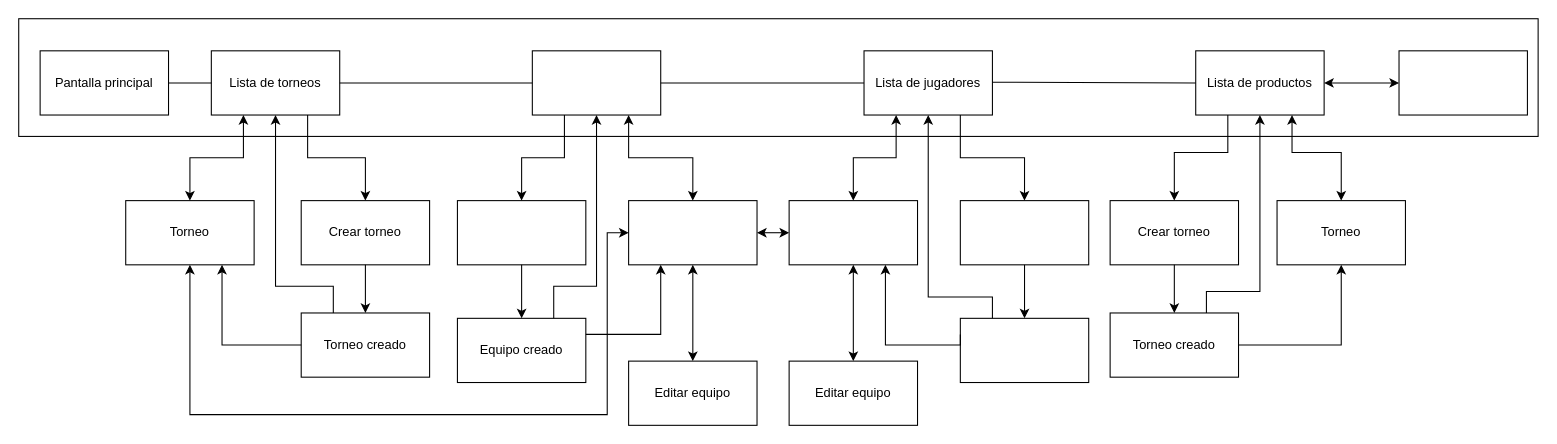
Some shapes in this 1557 by 444 pixel diagram are drawn without their labels. The box of each missing label's shape, as (x1, y1, x2, y2) in pixels:
Crear equipo: (456, 200, 586, 265)
Crear jugador: (959, 200, 1089, 265)
Equipo: (628, 200, 757, 265)
Jugador: (788, 200, 918, 265)
Jugador creado: (959, 317, 1089, 383)
Lista de equipos: (531, 50, 661, 115)
Registro de usuarios: (1398, 50, 1527, 115)
